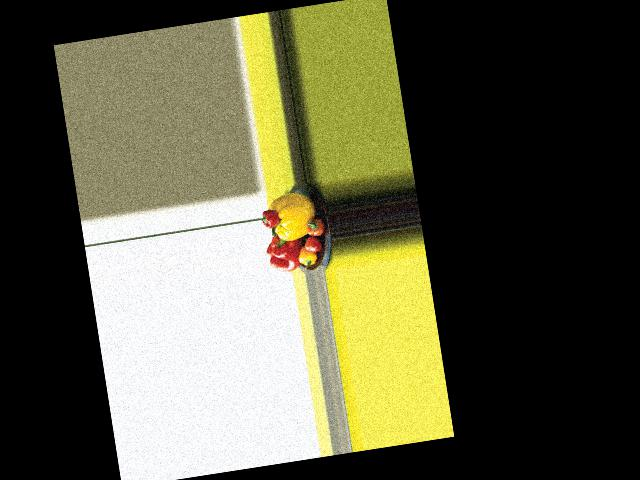bell_pepper: (296, 247, 317, 269)
